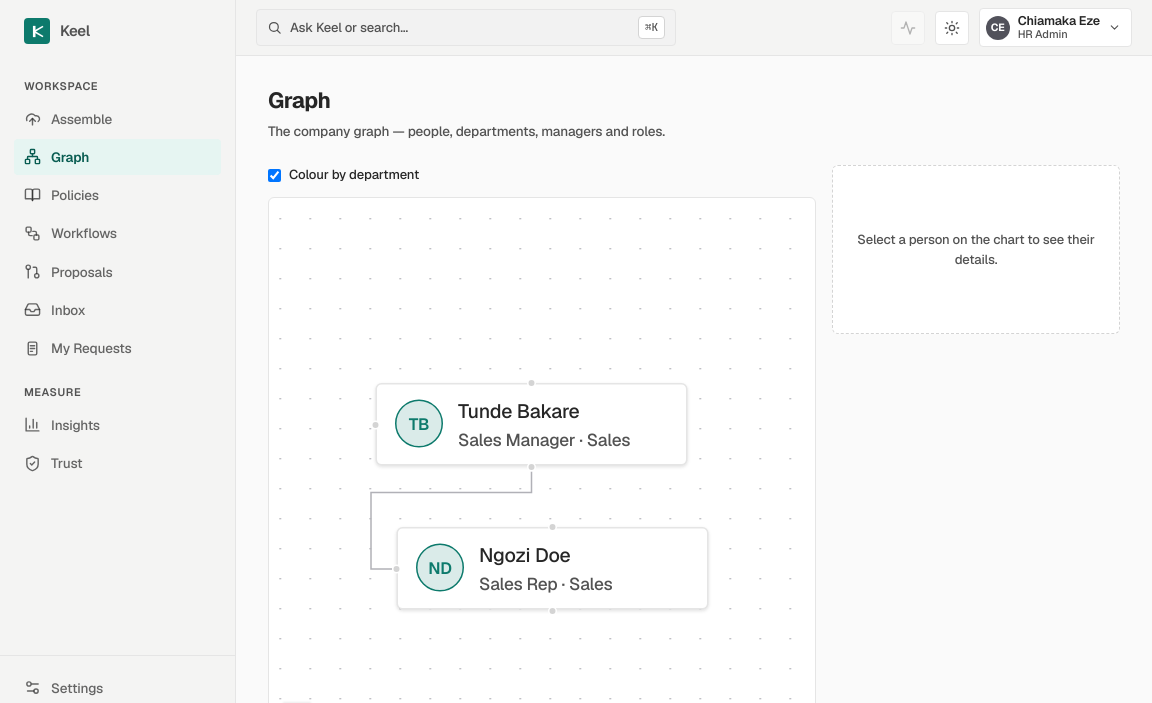
Test case: /graph › shows the selected person in the panel on node click
The width and height of the screenshot is (1152, 703).
Click the text "Ngozi Doe": click(525, 555) [479,542,571,567]
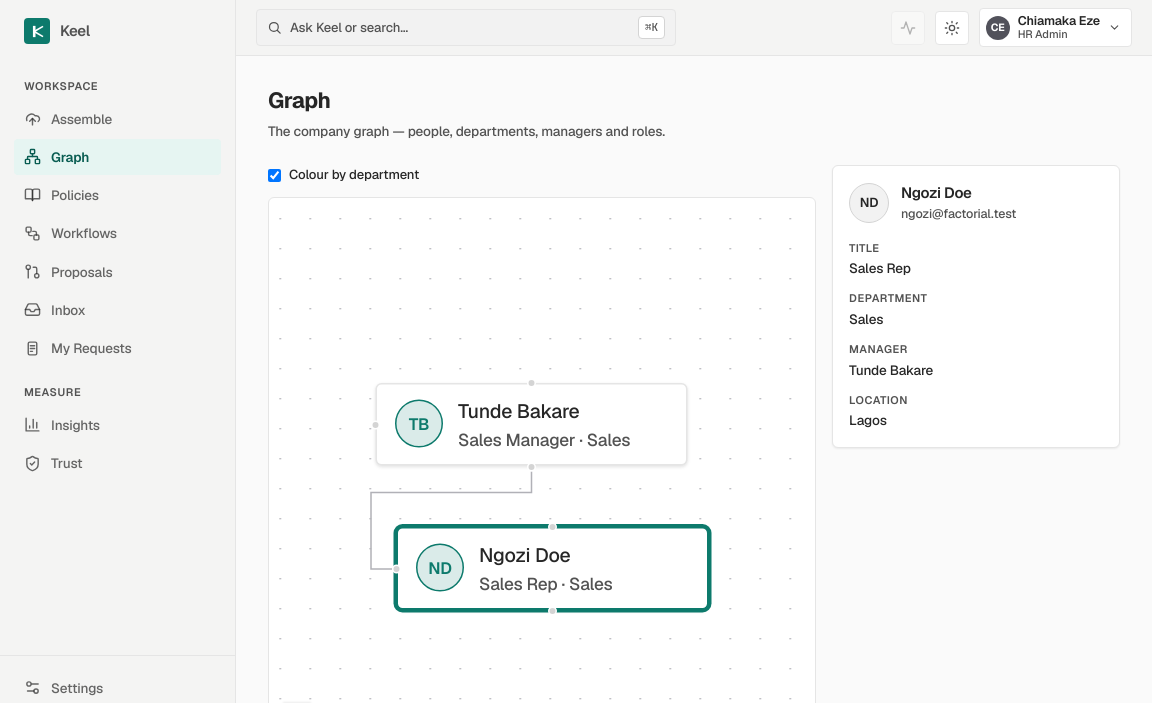
Expected: the heading "Ngozi Doe" is shown, [901,183,972,202]
Expected: the text "Sales Rep" is shown, [849,259,911,277]
Expected: the text "Lagos" is shown, [849,411,887,429]
